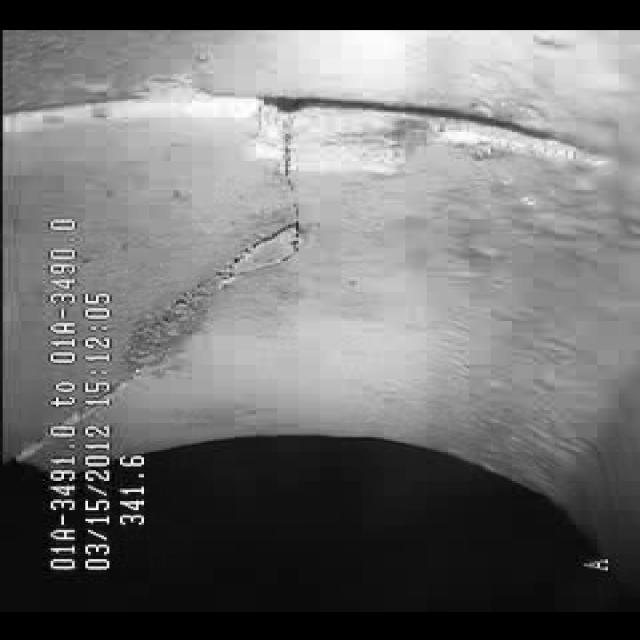Crack: (148, 128, 344, 338)
